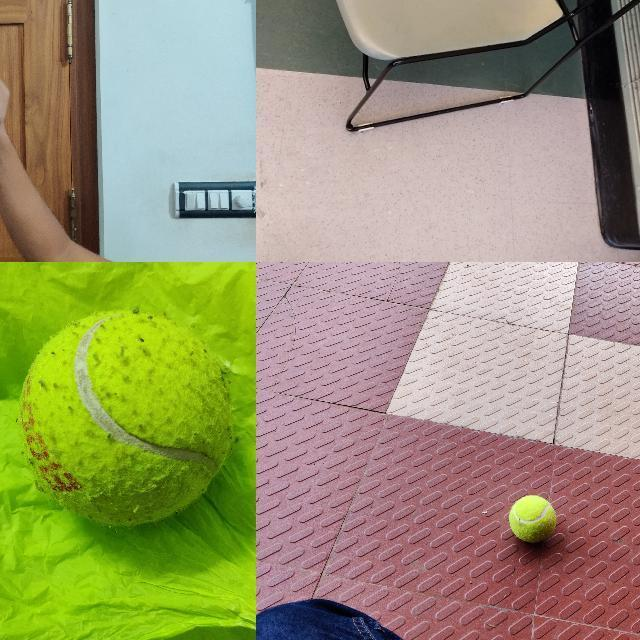tennis-ball: (16, 309, 236, 527), (509, 496, 556, 542)
